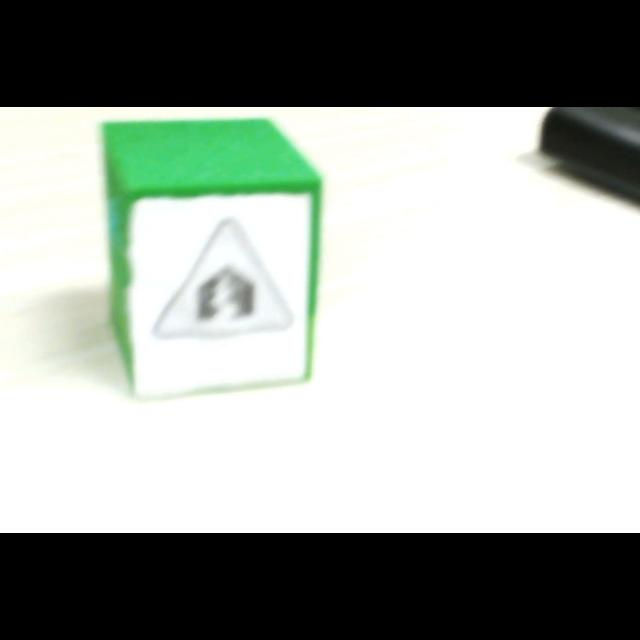Earthquake: (151, 217, 294, 344), (150, 217, 294, 341)
